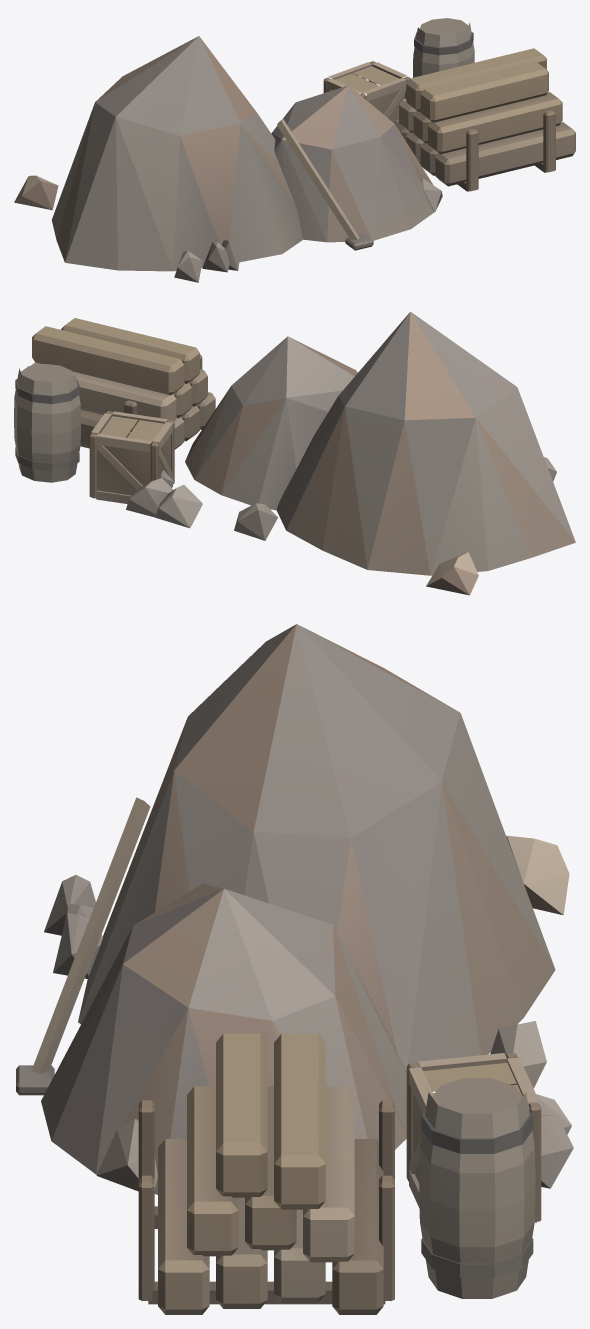
File: spoil.glb
3 views of the same model, one above another, from view 1: azimuth 30°, elevation 25°; view 2: azimuth 150°, elevation 25°; view 3: azimuth 270°, elevation 25° (orthographic). The views are drawn at different scales.
Bounding box in the file's own units: 5.23 × 1.9 × 2.59.
